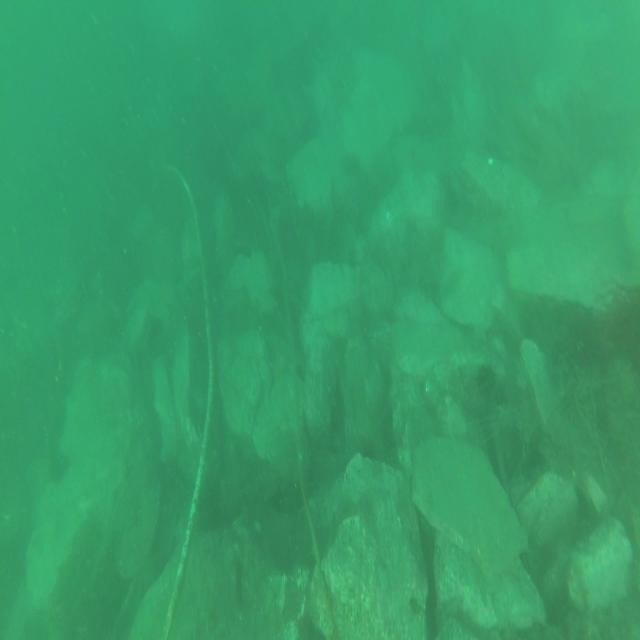echinus: (474, 358, 499, 399)
